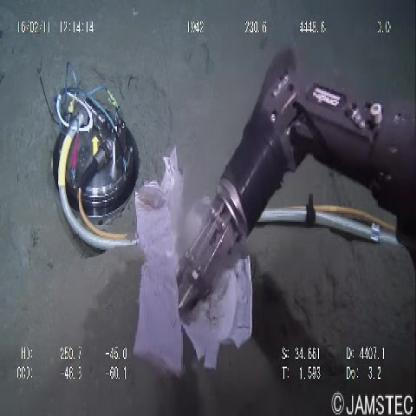Rov: (172, 63, 416, 316), (37, 54, 140, 257)
Rác: (130, 140, 255, 378)
